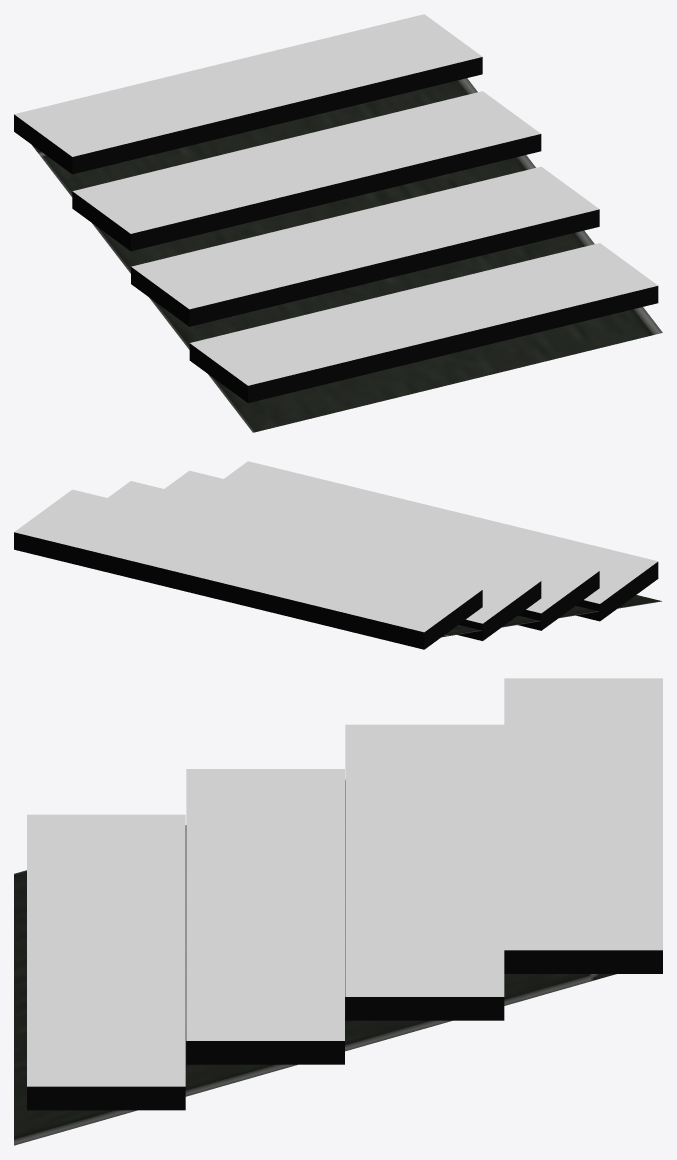
The model's file is CubeBaseFrontStaircase2.fbx.
3 renders of one model, top to bottom at view 1: azimuth 30°, elevation 25°; view 2: azimuth 150°, elevation 25°; view 3: azimuth 270°, elevation 25°, orthographic. The views are drawn at different scales.
Visible parts, largest first — view 1: pCube4, pCube12, pCube14, pCube11, pCube13; view 2: pCube11, pCube13, pCube14, pCube12, pCube4; view 3: pCube12, pCube14, pCube11, pCube13, pCube4.
Part boxes in pixels (bbox=[...]): pCube4: bbox=[31, 78, 662, 432]; pCube12: bbox=[72, 91, 541, 251]; pCube14: bbox=[189, 243, 658, 403]; pCube11: bbox=[14, 14, 482, 174]; pCube13: bbox=[131, 166, 599, 326]; pCube11: bbox=[14, 489, 482, 649]; pCube13: bbox=[165, 470, 599, 630]; pCube14: bbox=[224, 461, 658, 621]; pCube12: bbox=[108, 481, 541, 640]; pCube4: bbox=[442, 595, 661, 637]; pCube12: bbox=[345, 724, 504, 1020]; pCube14: bbox=[27, 814, 185, 1110]; pCube11: bbox=[504, 678, 662, 973]; pCube13: bbox=[186, 769, 344, 1064]; pCube4: bbox=[14, 780, 616, 1145].
Size of the model in its own units: 1 by 0.3352 by 1.01.
Materials: 3 (1 with a texture image).
